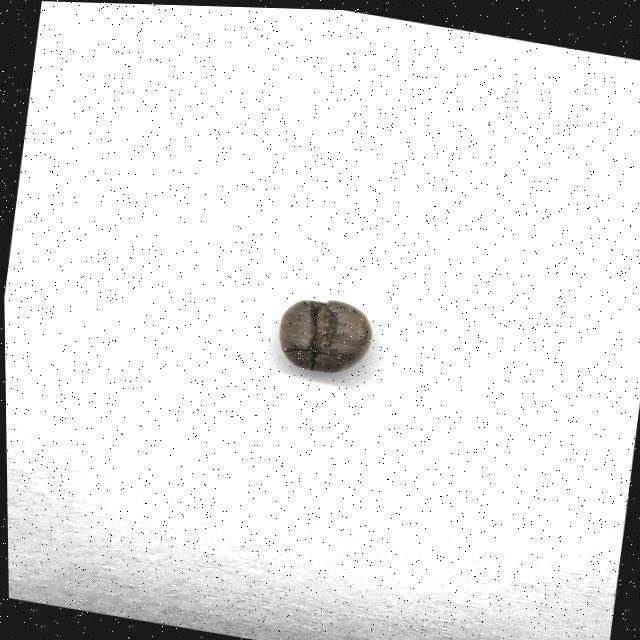Black: (272, 288, 376, 379)
